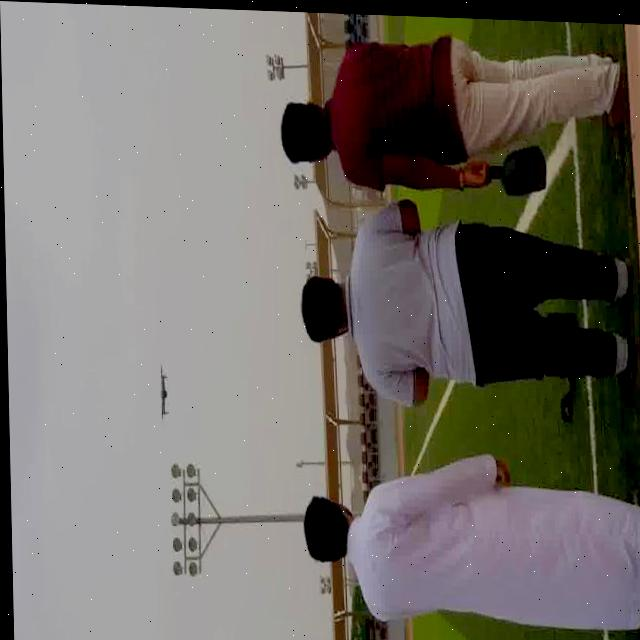drone: (152, 350, 169, 425)
